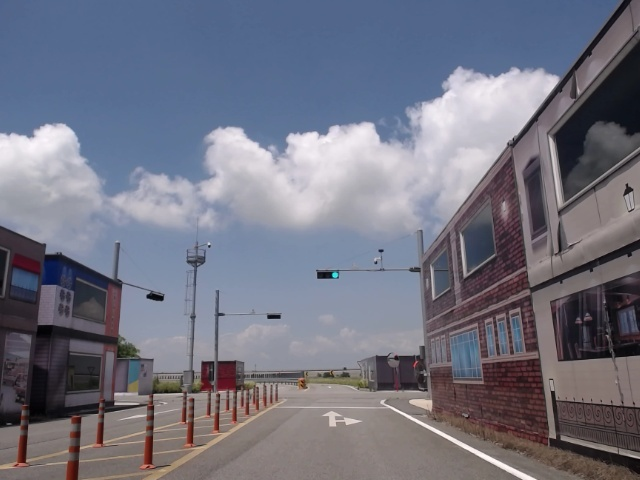green_3: (317, 272, 340, 279)
